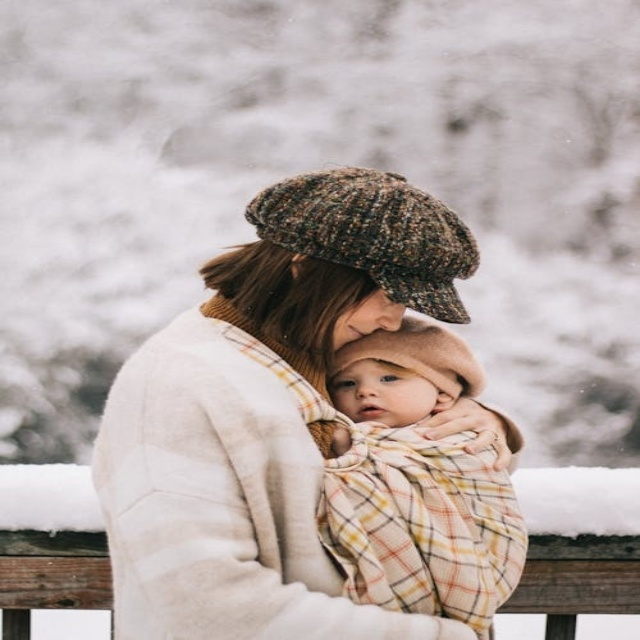Sin_gafas: (330, 369, 404, 394)
Sin_guantes: (417, 396, 516, 468)
Sin_mascara: (344, 400, 397, 424), (338, 312, 370, 344)
